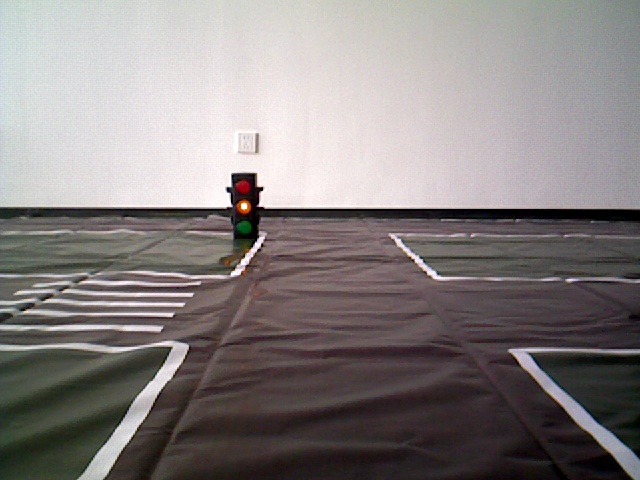yellow: (227, 170, 262, 243)
